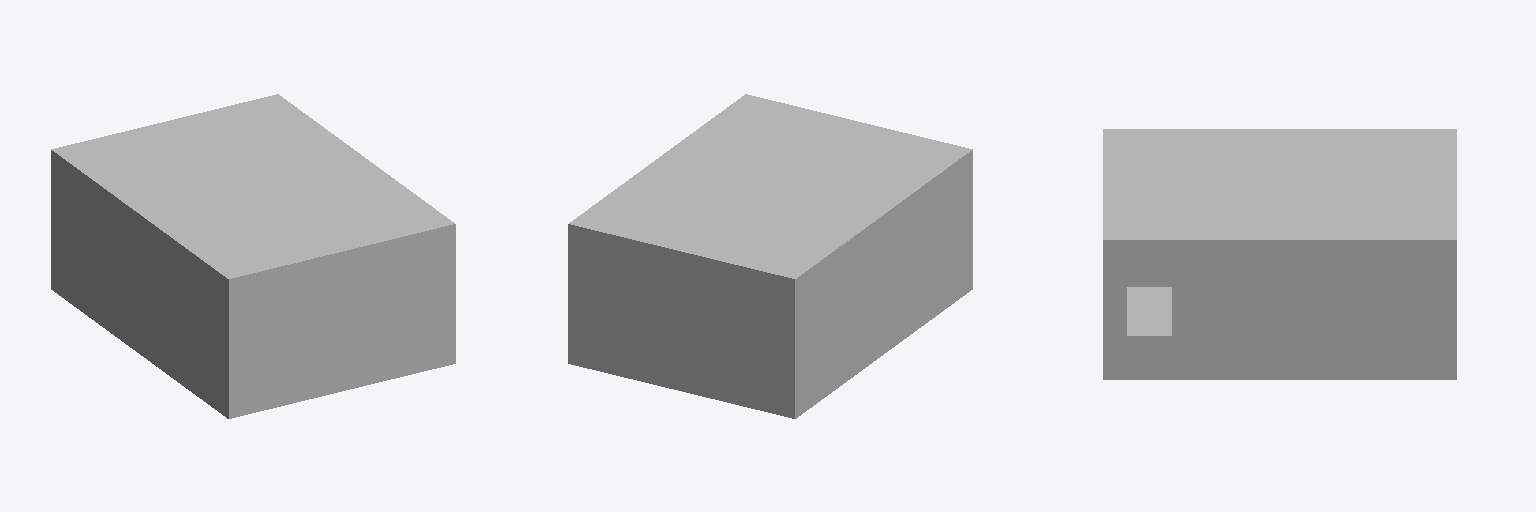
Rendered from room.obj.
3 renders of one model, left to right at view 1: azimuth 30°, elevation 25°; view 2: azimuth 150°, elevation 25°; view 3: azimuth 270°, elevation 25°, orthographic.
Visible parts, largest first — view 1: Cube.001_Cube.002; view 2: Cube.001_Cube.002; view 3: Cube.001_Cube.002.
Part boxes in pixels (x1,y1,x2,y2): Cube.001_Cube.002: (51, 94, 455, 418); Cube.001_Cube.002: (568, 94, 972, 418); Cube.001_Cube.002: (1103, 129, 1456, 379).
Bounding box in the file's own units: 5.44 × 3.13 × 7.19.